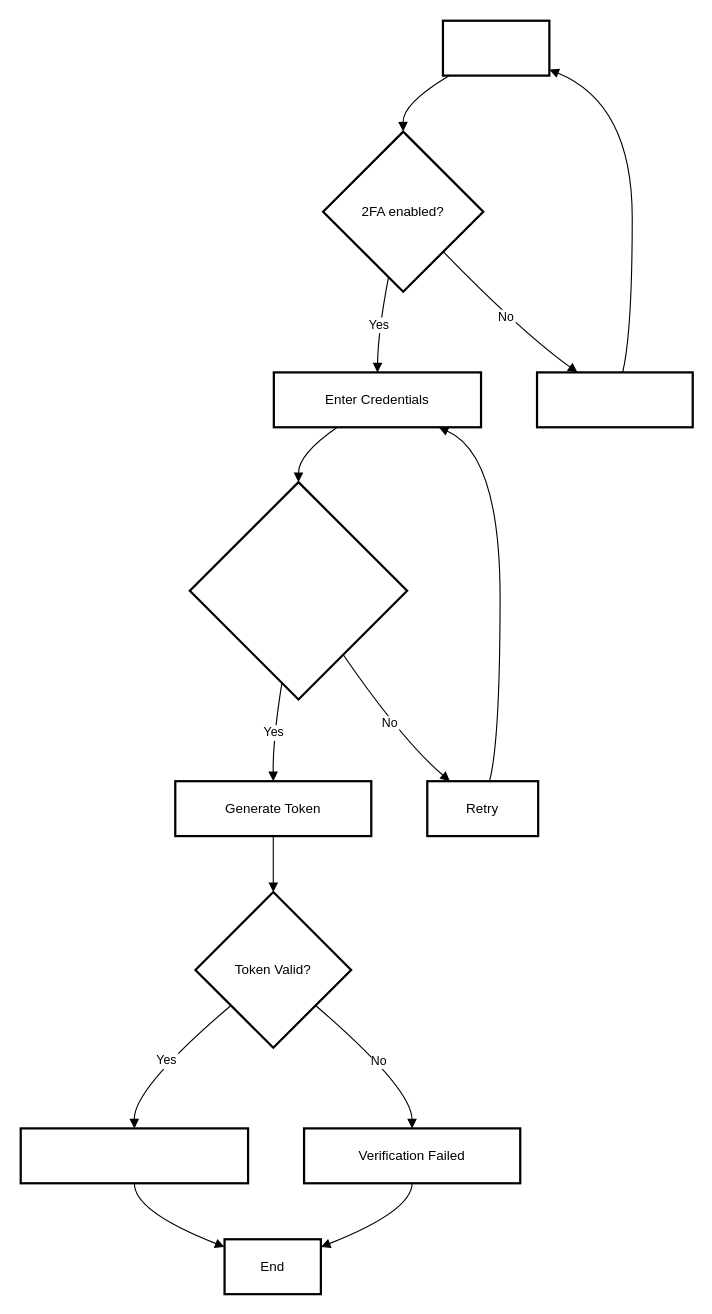
Image size: 712x1314. Some labels were removed from this diagram. The box of each missing label's shape, as (x1, y1, x2, y2) in pixels:
Credentials Correct?: (188, 480, 408, 700)
Enable 2FA: (535, 371, 693, 428)
Start: (441, 19, 550, 76)
Verification Success: (19, 1127, 249, 1184)
